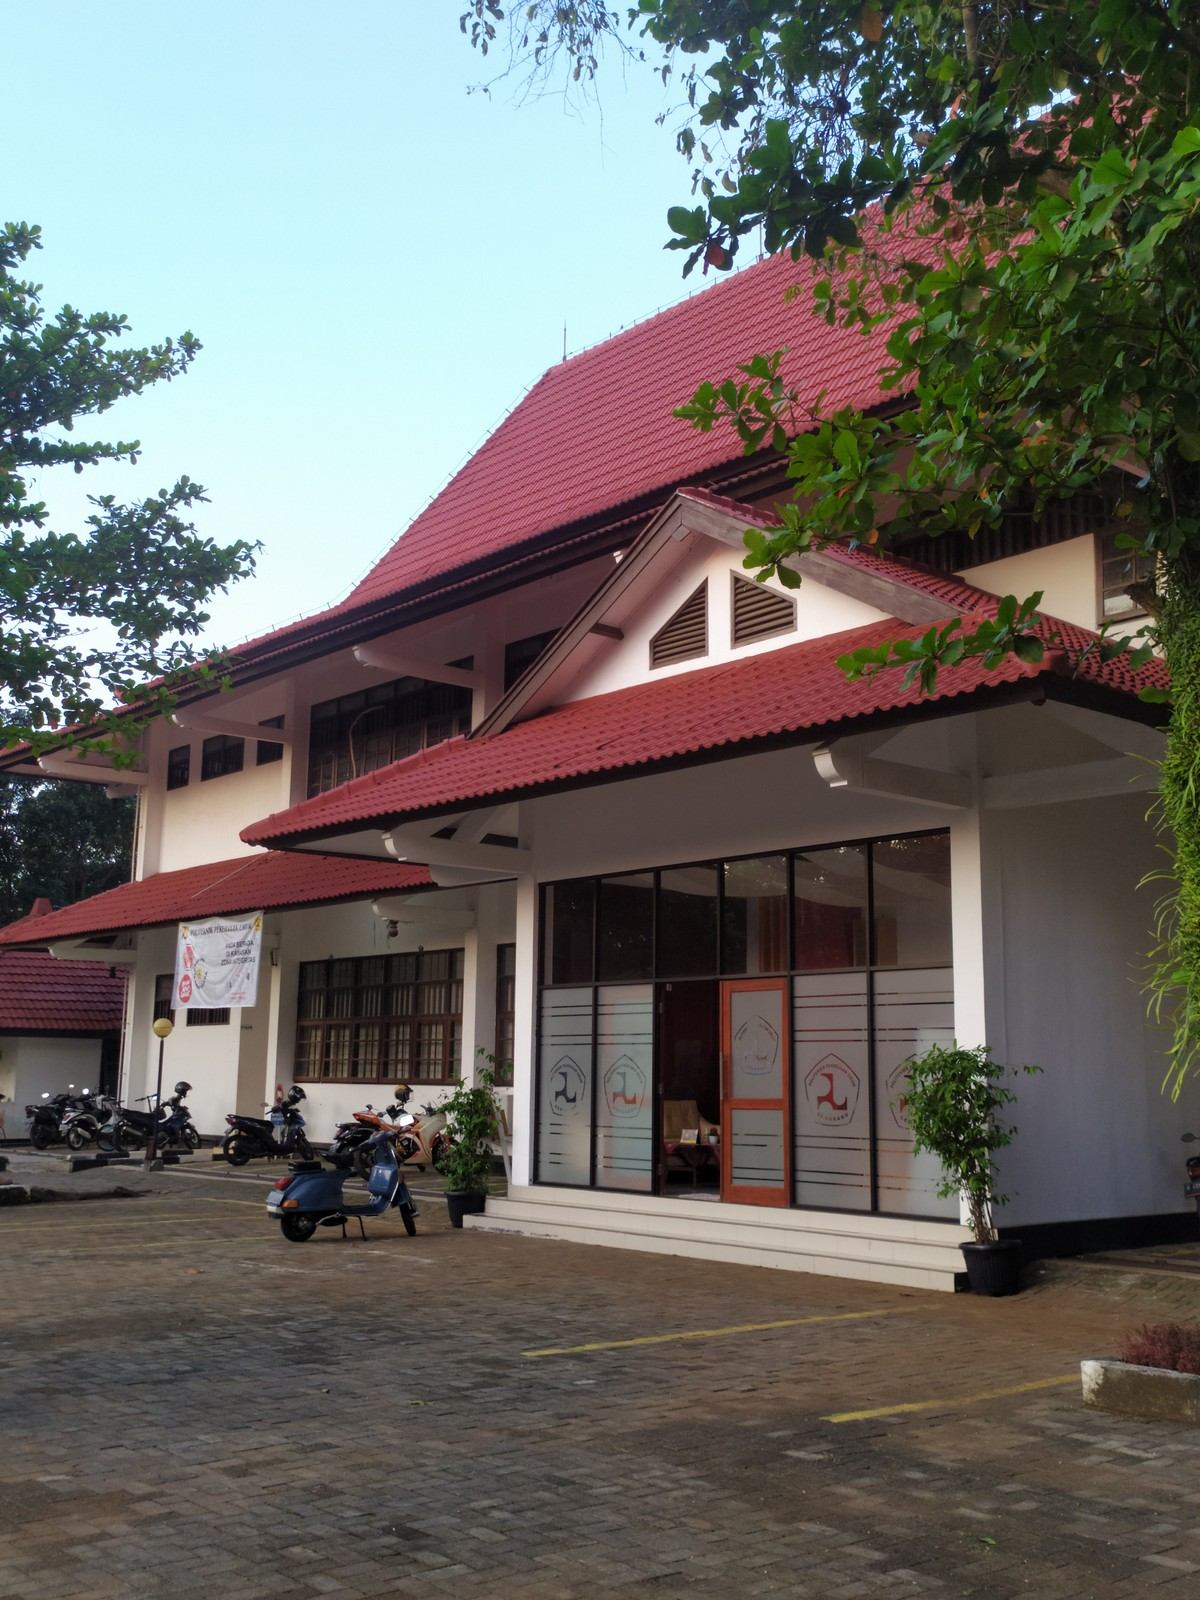concrete column: (453, 900, 504, 1107), (120, 931, 158, 1107), (132, 712, 168, 884)
